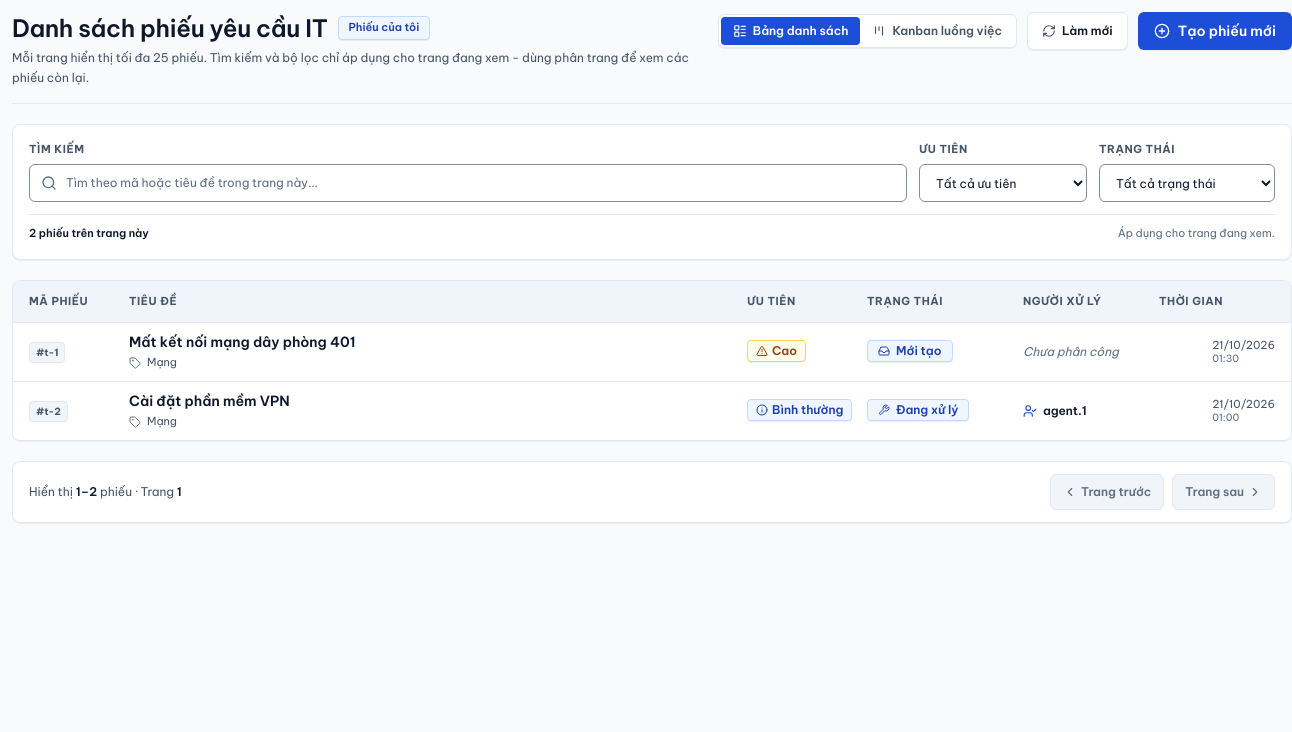
Test: TicketListPage Component › shows the filtered result count and clears filters from the empty state
Check: the text "Cài đặt phần mềm VPN" is shown, box x1=129 y1=392 x2=290 y2=410
Check: the text "2 phiếu trên trang này" is shown, box x1=29 y1=225 x2=149 y2=243
Step 1. Type "VPN" into the field named "Tìm trong trang hiện tại" → (468,183), box x1=29 y1=164 x2=907 y2=202
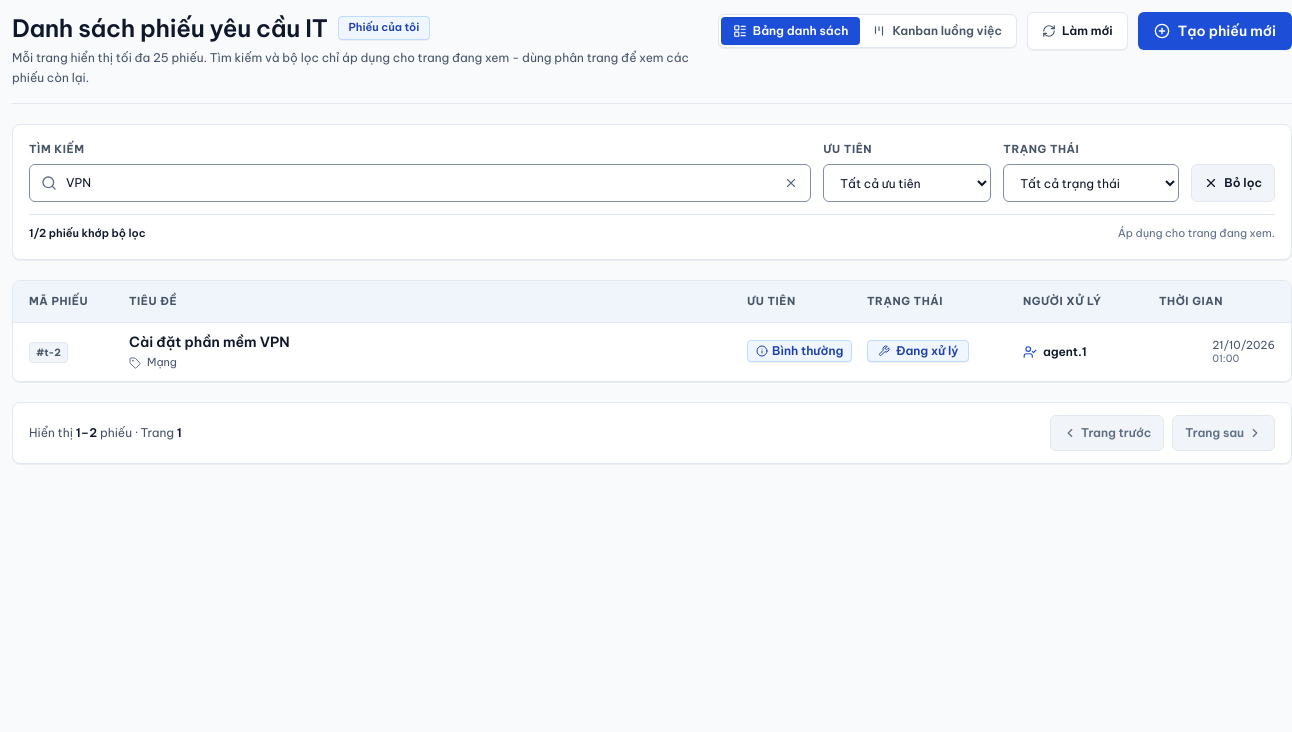
Check: the text "1/2 phiếu khớp bộ lọc" is shown, box x1=29 y1=225 x2=146 y2=243
Step 2. Replace the text in the field named "Tìm trong trang hiện tại" with "không trùng" → (420,183), box x1=29 y1=164 x2=811 y2=202
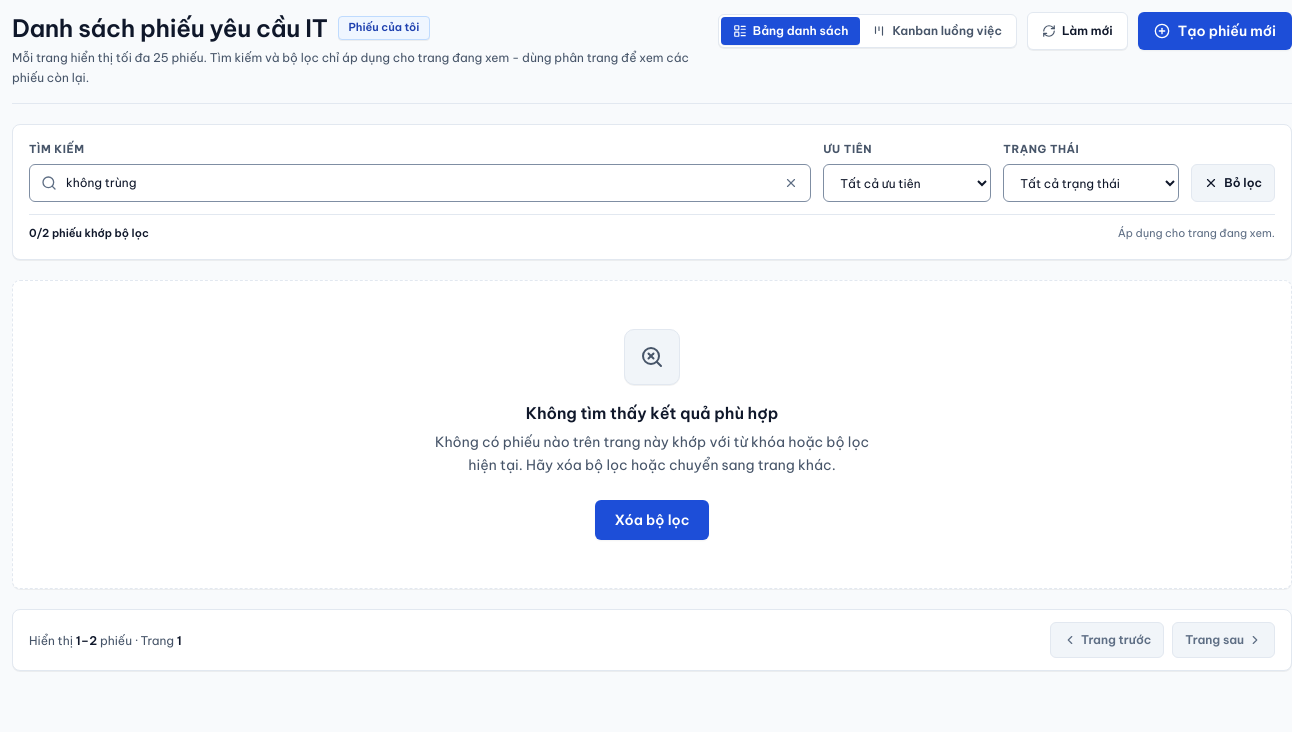
Check: the heading "Không tìm thấy kết quả phù hợp" is shown, box x1=526 y1=401 x2=778 y2=425
Check: the number of buttons "Xóa bộ lọc" is 1
Step 3. Click the button "Xóa bộ lọc" → (652,520), box x1=594 y1=500 x2=709 y2=540
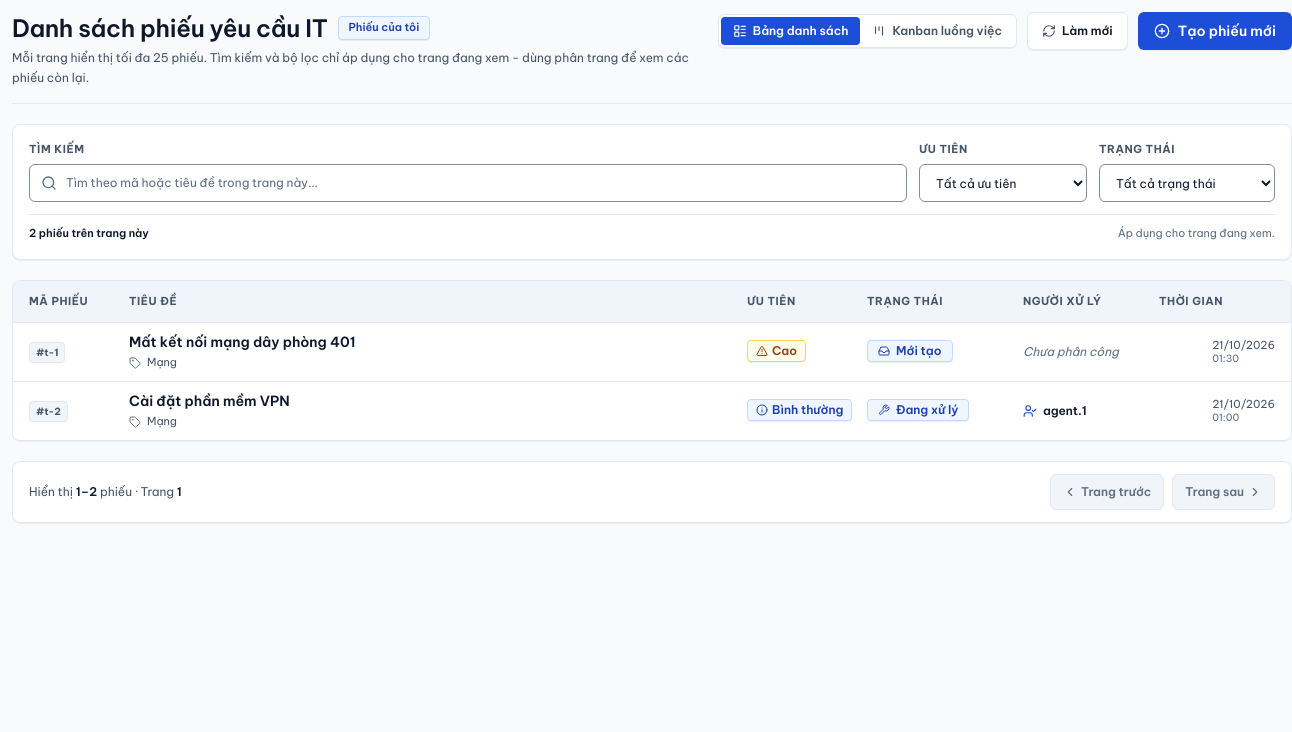
Check: the text "Cài đặt phần mềm VPN" is shown, box x1=129 y1=392 x2=290 y2=410
Check: the text "2 phiếu trên trang này" is shown, box x1=29 y1=225 x2=149 y2=243
